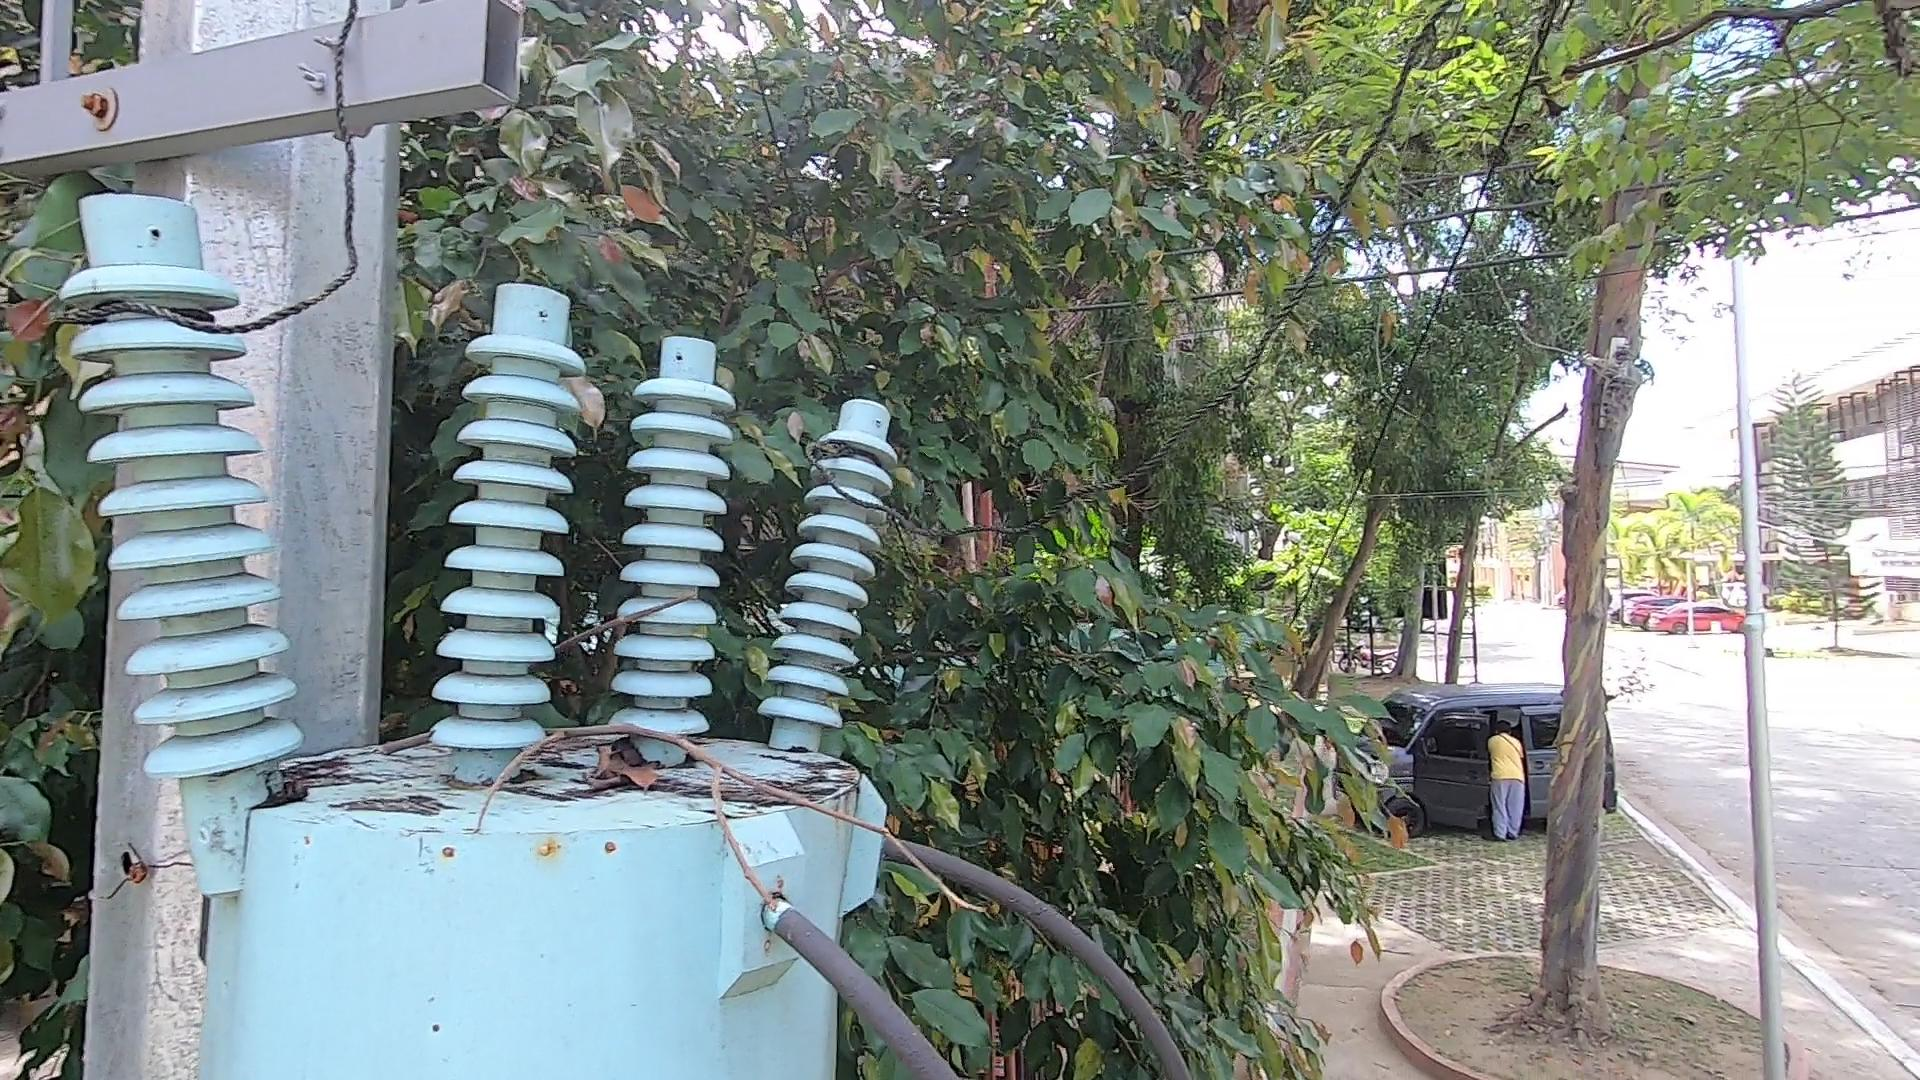leaf: (560, 723, 679, 798), (245, 771, 326, 822)
tree branch: (351, 696, 986, 943)
